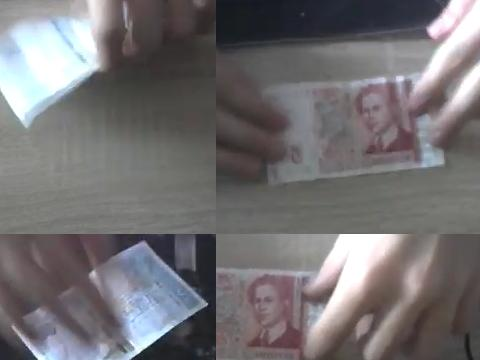20leva: (0, 17, 102, 129)
5leva: (266, 76, 439, 185), (216, 273, 302, 360)
